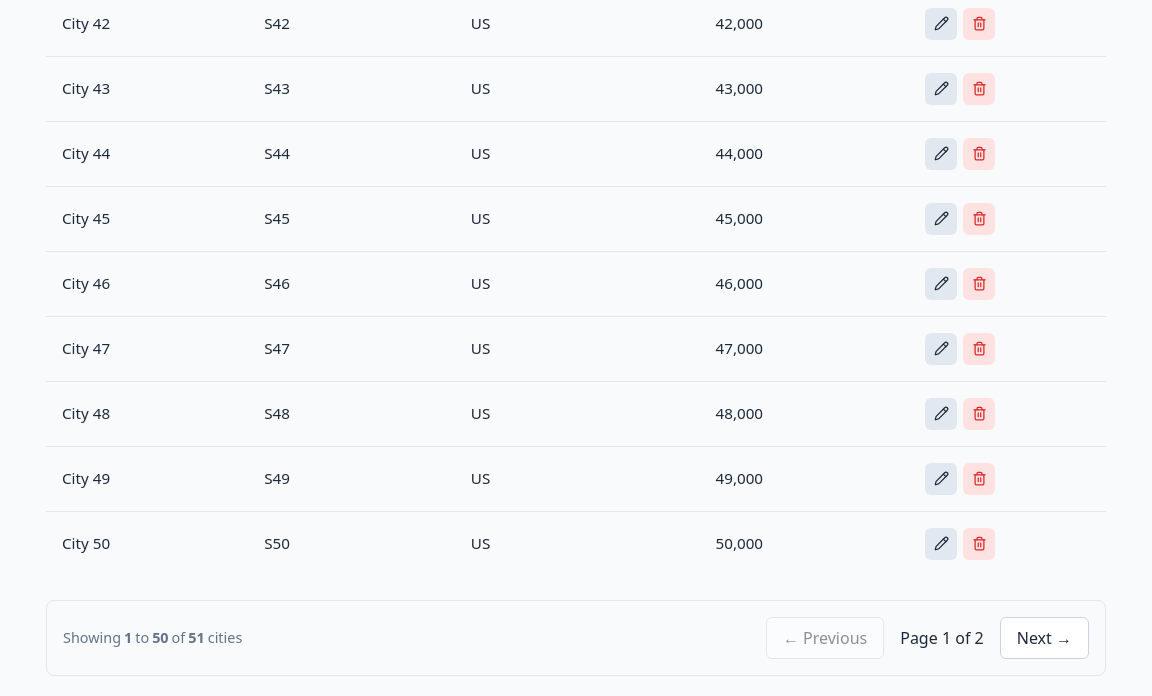
sorts rows by selected column and paginates long result sets with page reset on sort
(page scrolled)
Expected: the text "City 51" is not shown
Expected: the text "Page 1 of 2" is shown, [900,626,984,650]
Click the button "Next →" at (1044, 638), box [1000,617,1089,659]
(page scrolled)
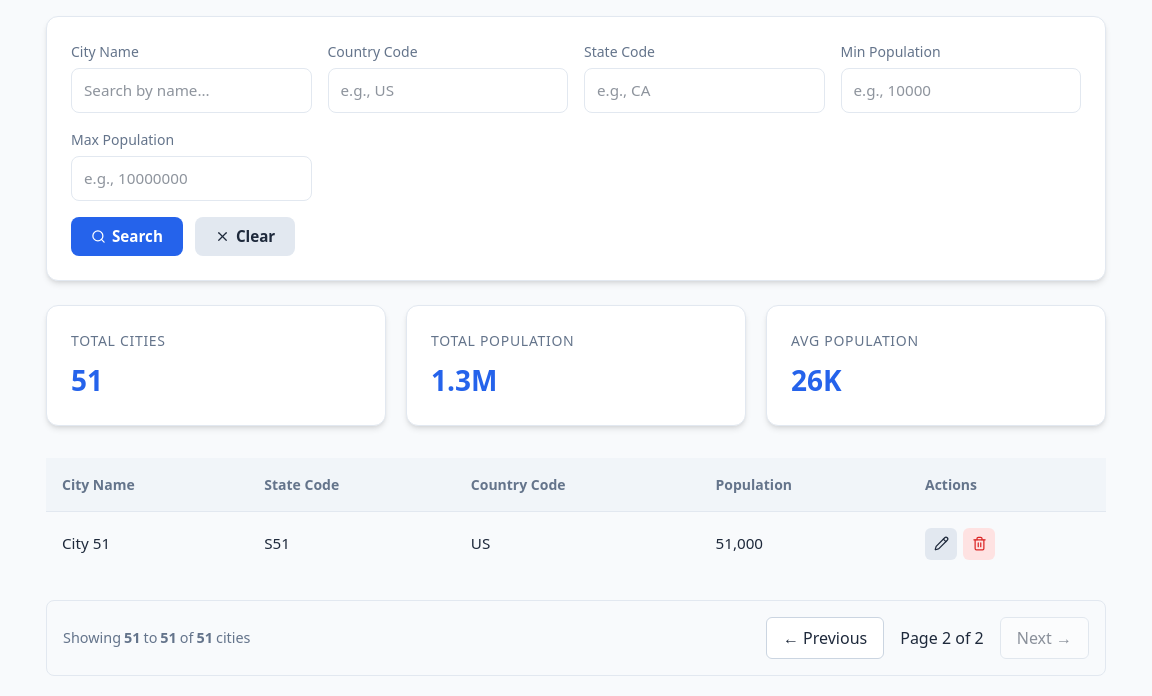
Now the text "City 51" is shown, box [46,511,248,576]
Now the text "Page 2 of 2" is shown, box [900,626,984,650]
Now the button "← Previous" is enabled, box [766,617,884,659]
Click the column heading titled "Sort by City Name" at (147, 485), box [46,458,248,511]
(page scrolled)
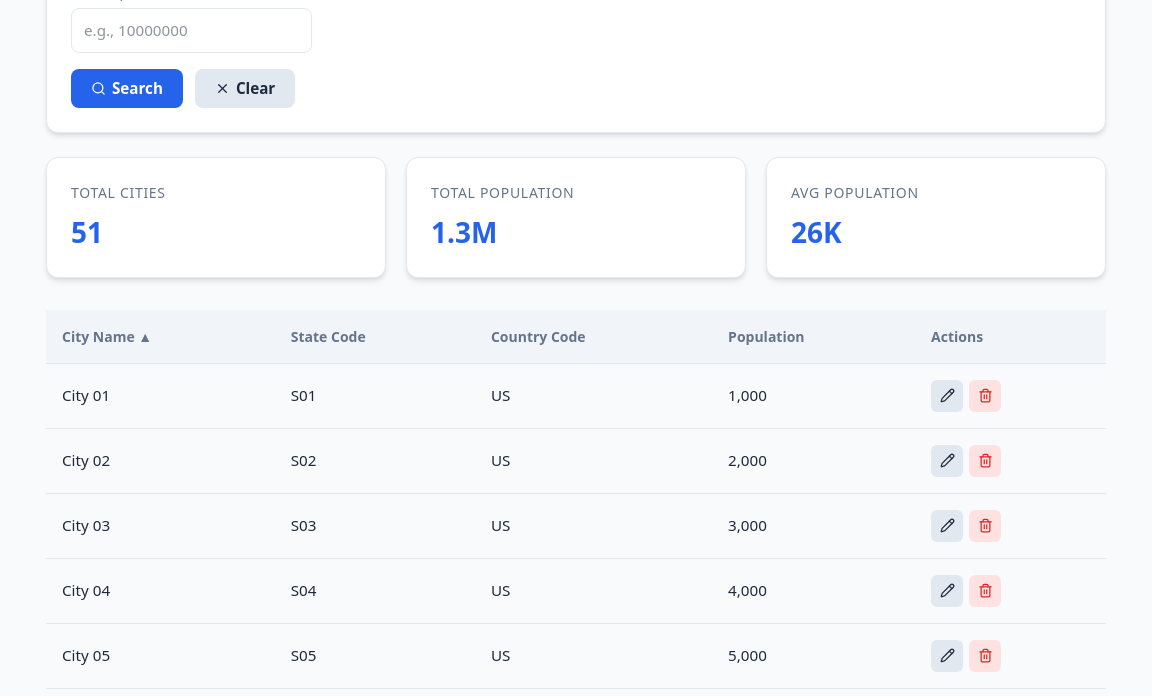
Now the text "City 01" is shown, box [46,363,275,428]
Now the text "City 51" is gone
Click the column heading titled "Sort by City Name" at (160, 337), box [46,310,275,363]
(page scrolled)
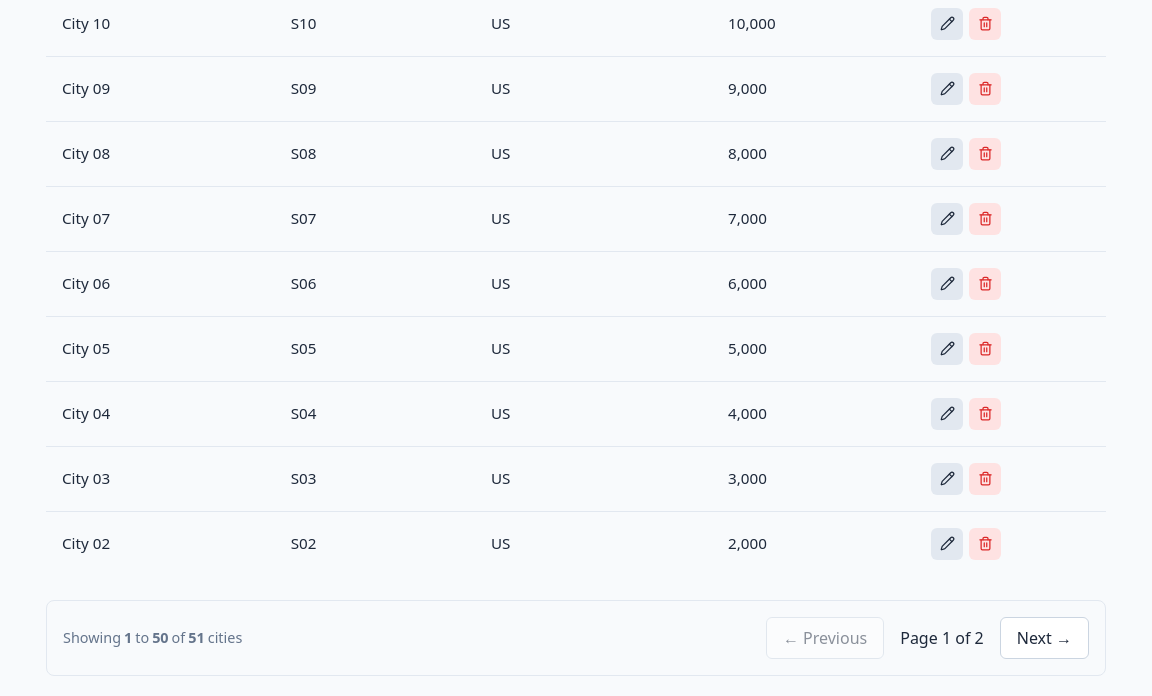
Click the button "Next →" at (1044, 638), box [1000,617,1089,659]
(page scrolled)
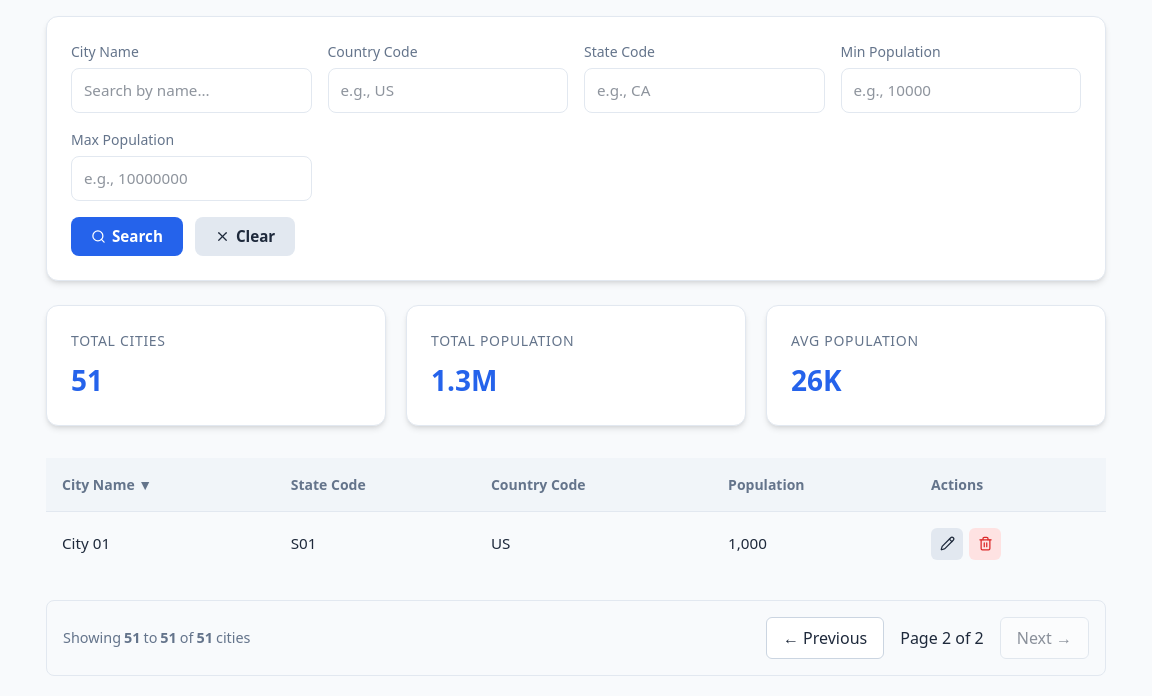
Click the button "← Previous" at (825, 638), box [766,617,884,659]
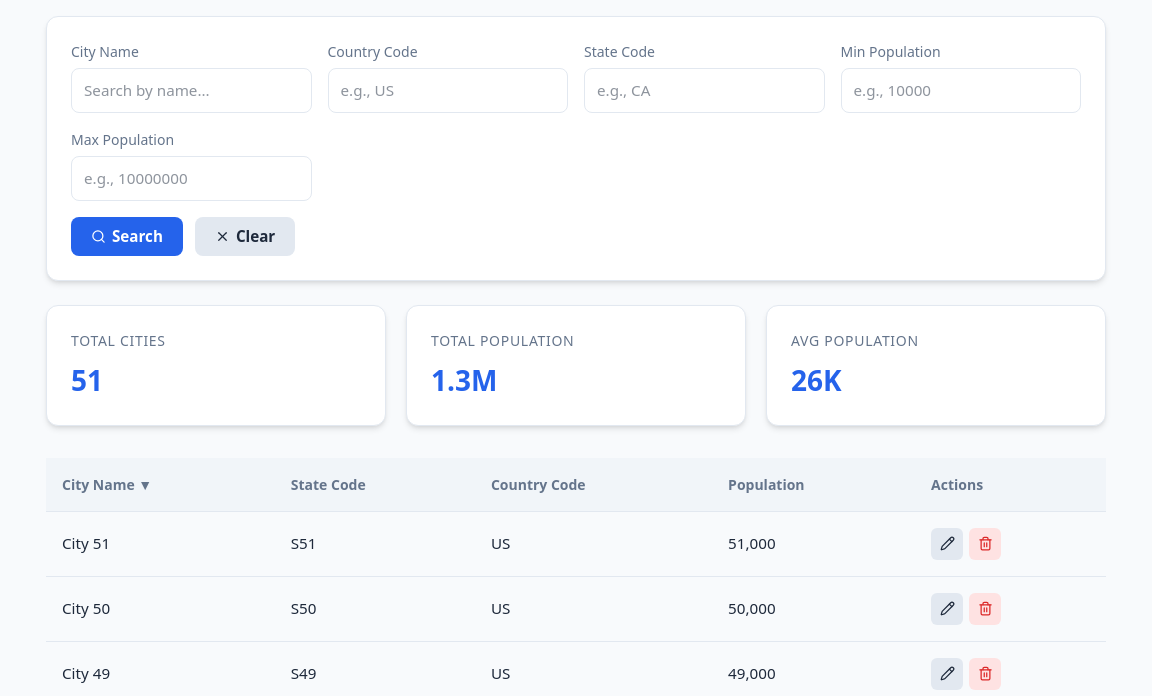
Now the text "City 51" is shown, box [46,511,275,576]
